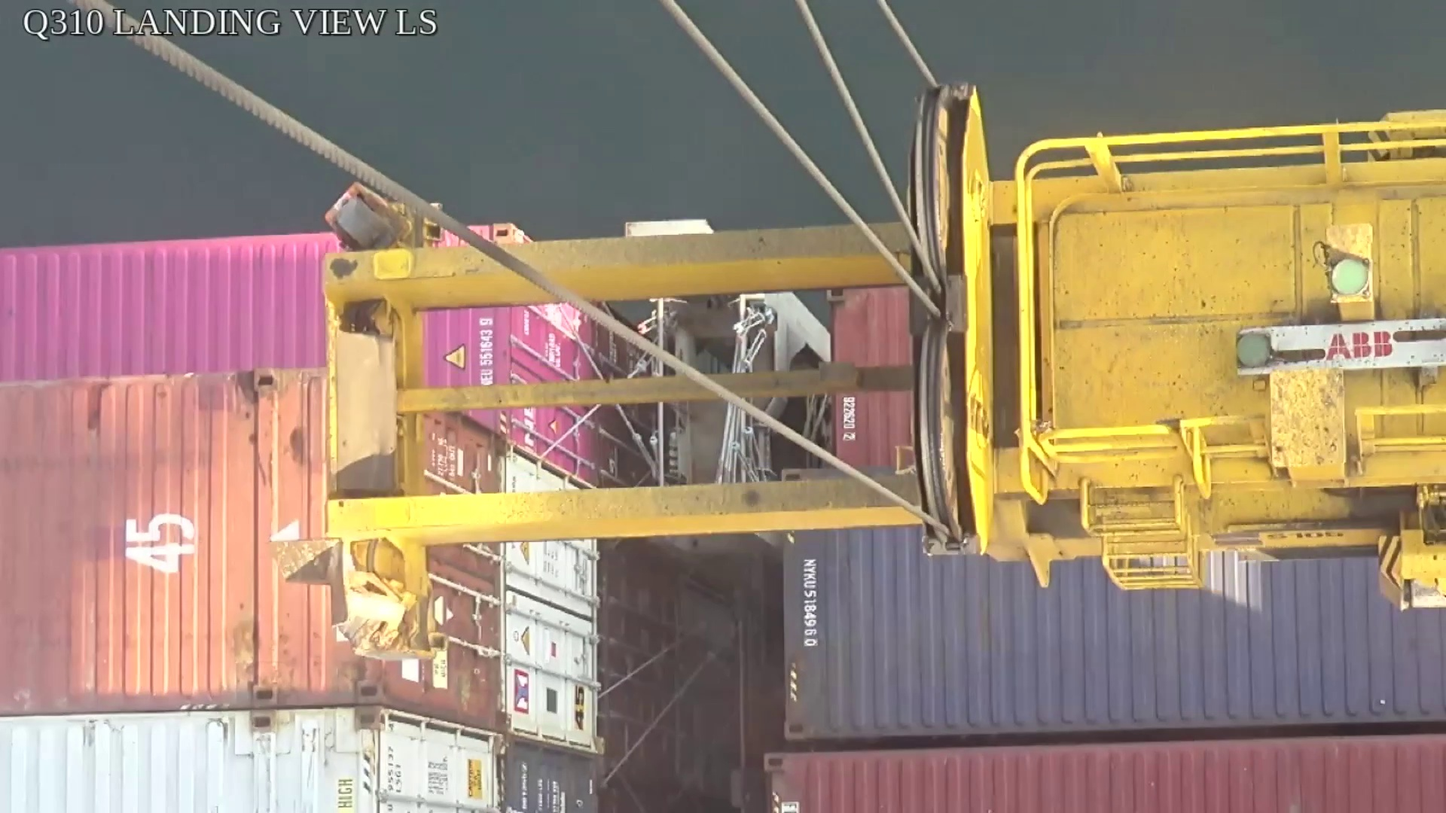aa: (908, 86, 999, 556)
